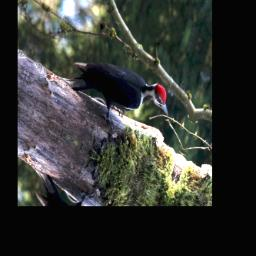Woodpecker: (55, 26, 175, 165)
